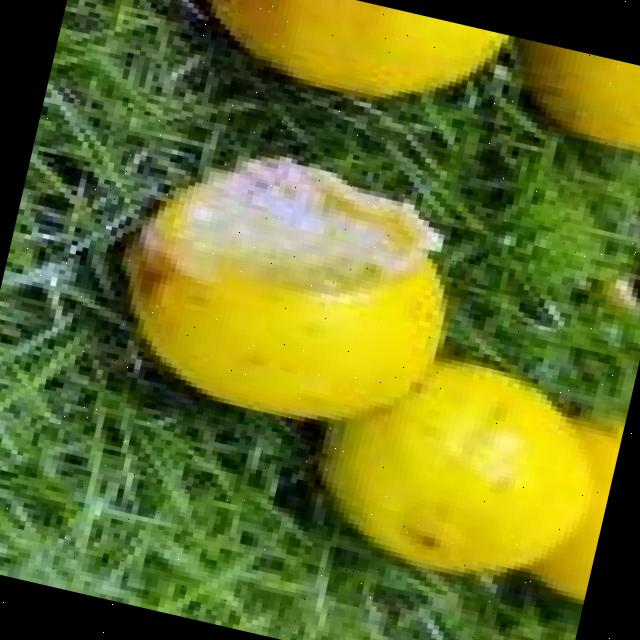Bad_Lime-0-1-day: (120, 153, 441, 421), (195, 0, 512, 98)
Good_Lime-10-21-days: (314, 355, 626, 607), (514, 37, 640, 150)
